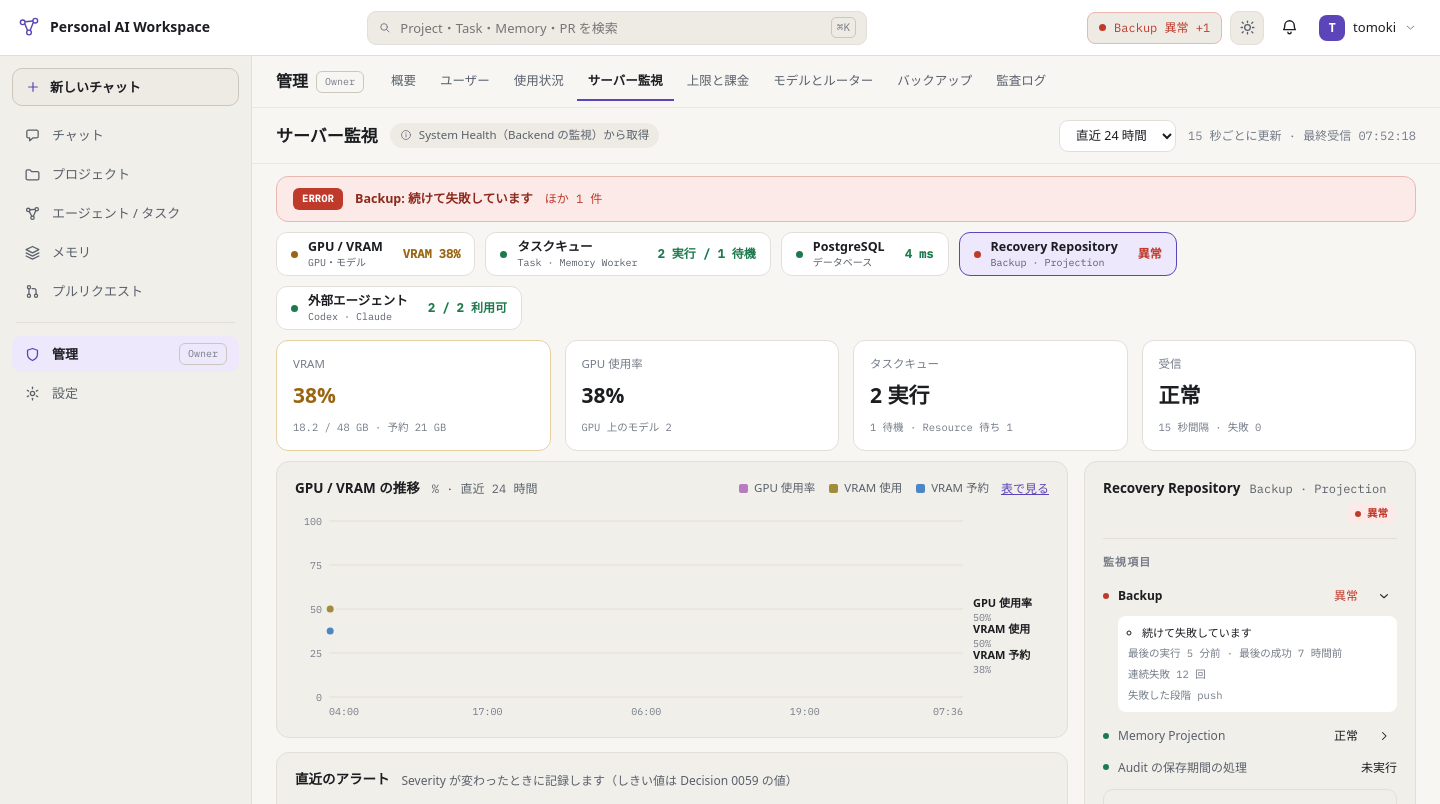
サーバー監視 › opens the details of what is abnormal
The image size is (1440, 804).
Expected: the text "ERROR" is shown, [293,188,343,210]
Expected: the text "Backup: 続けて失敗しています" is shown, [355,189,533,209]
// GPU / VRAM shows its warning when chosen.
Click the button "GPU / VRAM GPU・モデル VRAM 38%": (376, 254) [276,232,475,276]
(page scrolled)
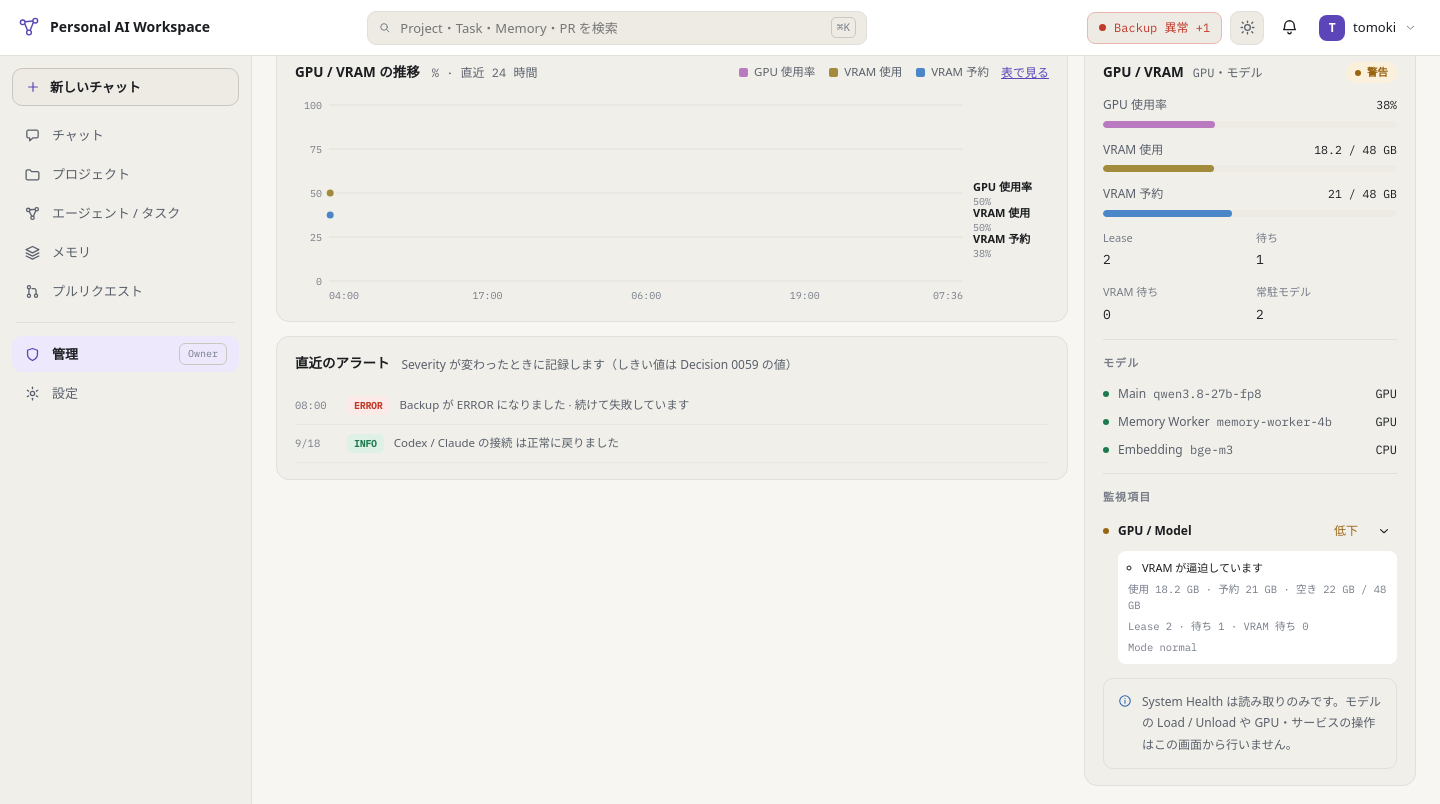
Now the list item "VRAM が逼迫しています" is shown, box [1142,560,1263,575]
